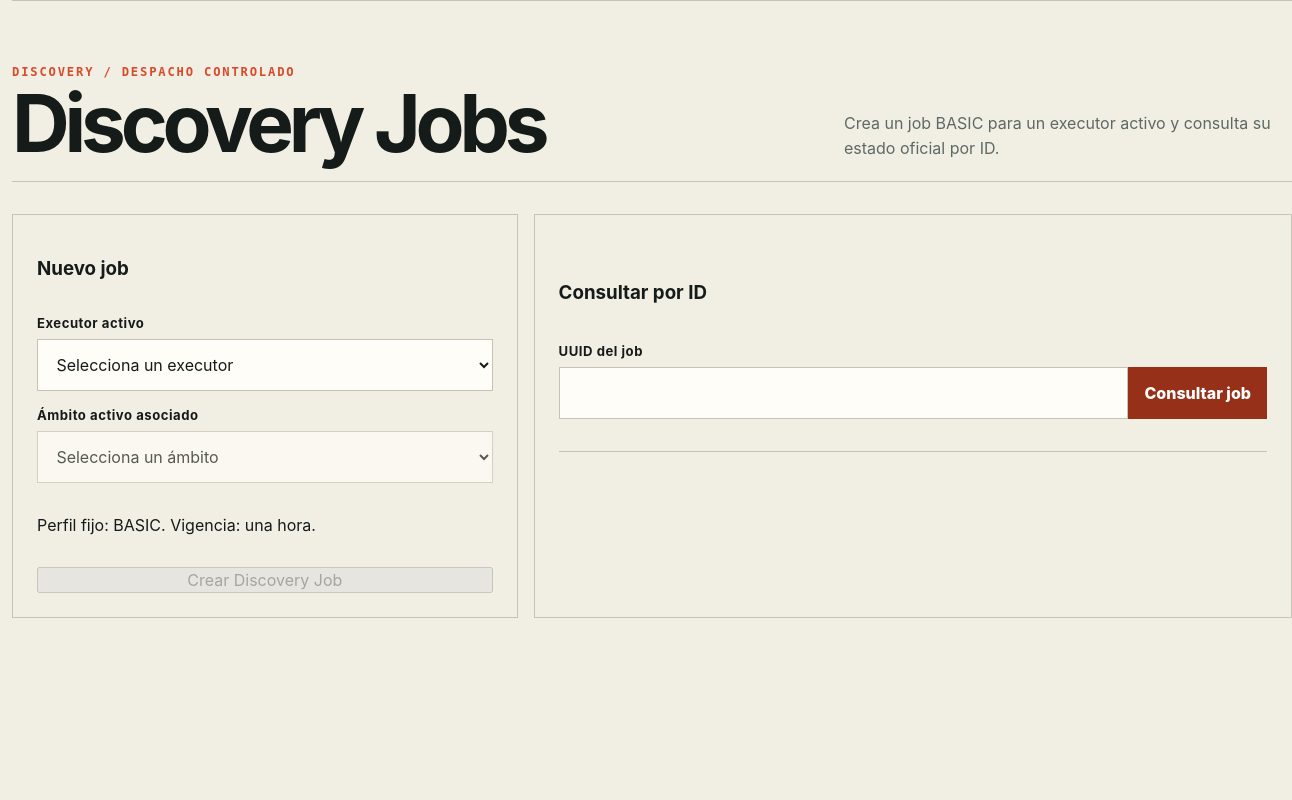
Test: DiscoveryJobWorkspace › does not retry an unavailable job publication
Select "Office executor" in the dropdown labelled "Executor activo" at (265, 365), box [37, 339, 493, 391]
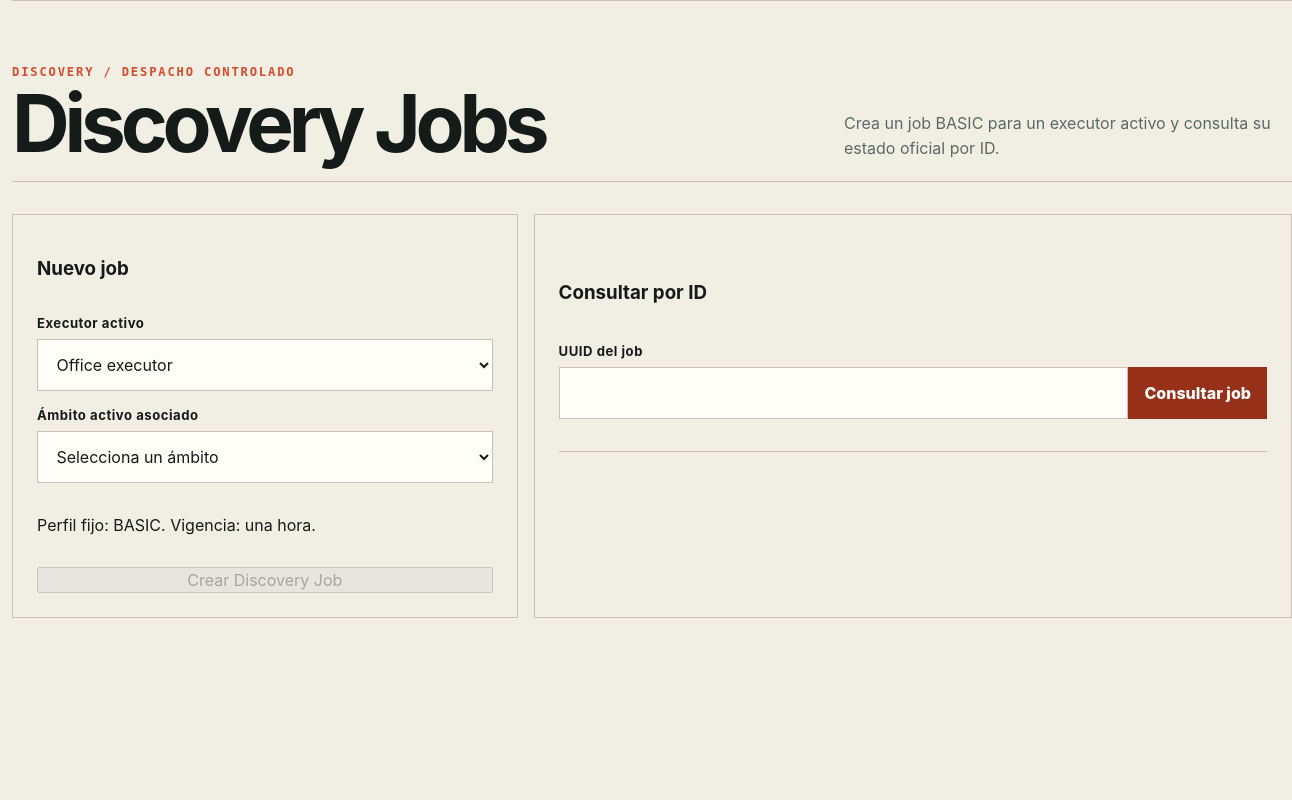
Select "Office network · 192.0.2.0/24" in the dropdown labelled "Ámbito activo asociado" at (265, 457), box [37, 431, 493, 483]
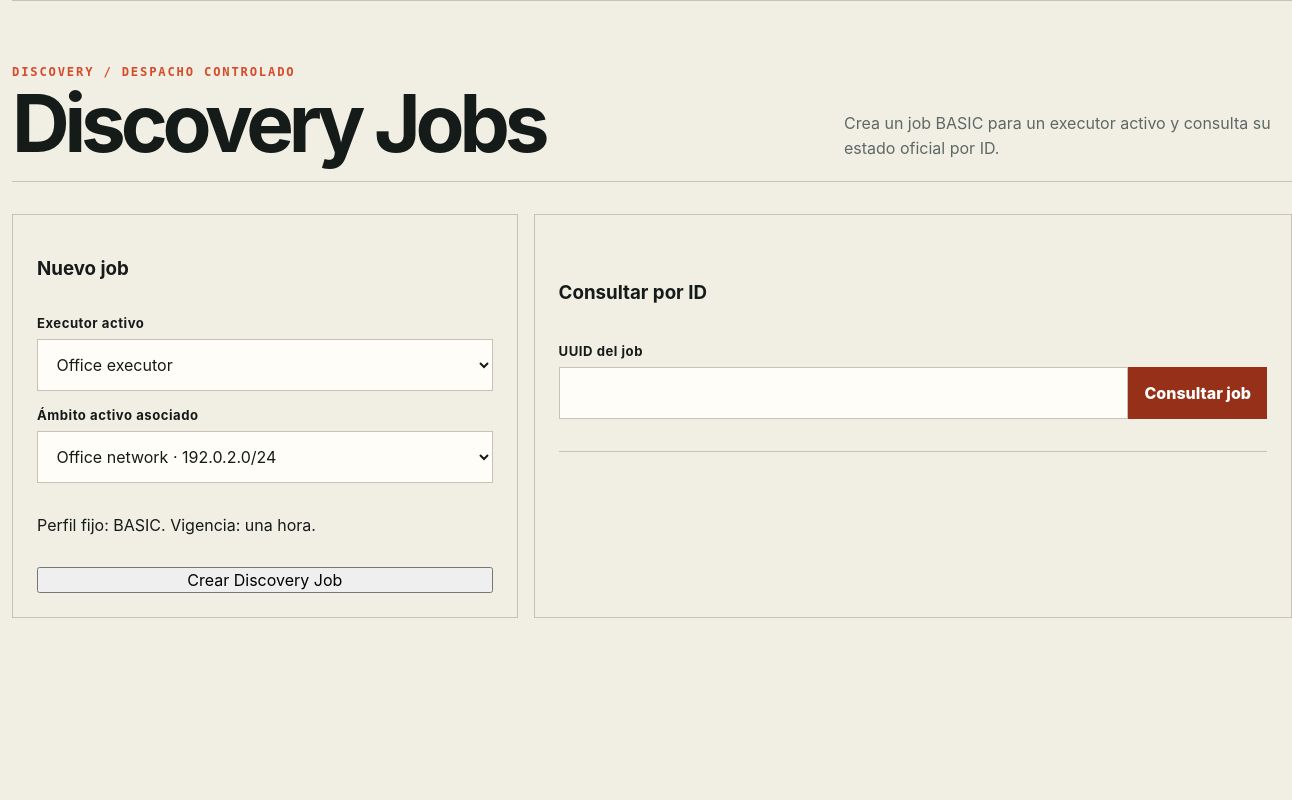
Click the button "Crear Discovery Job" at (265, 580), box [37, 567, 493, 593]
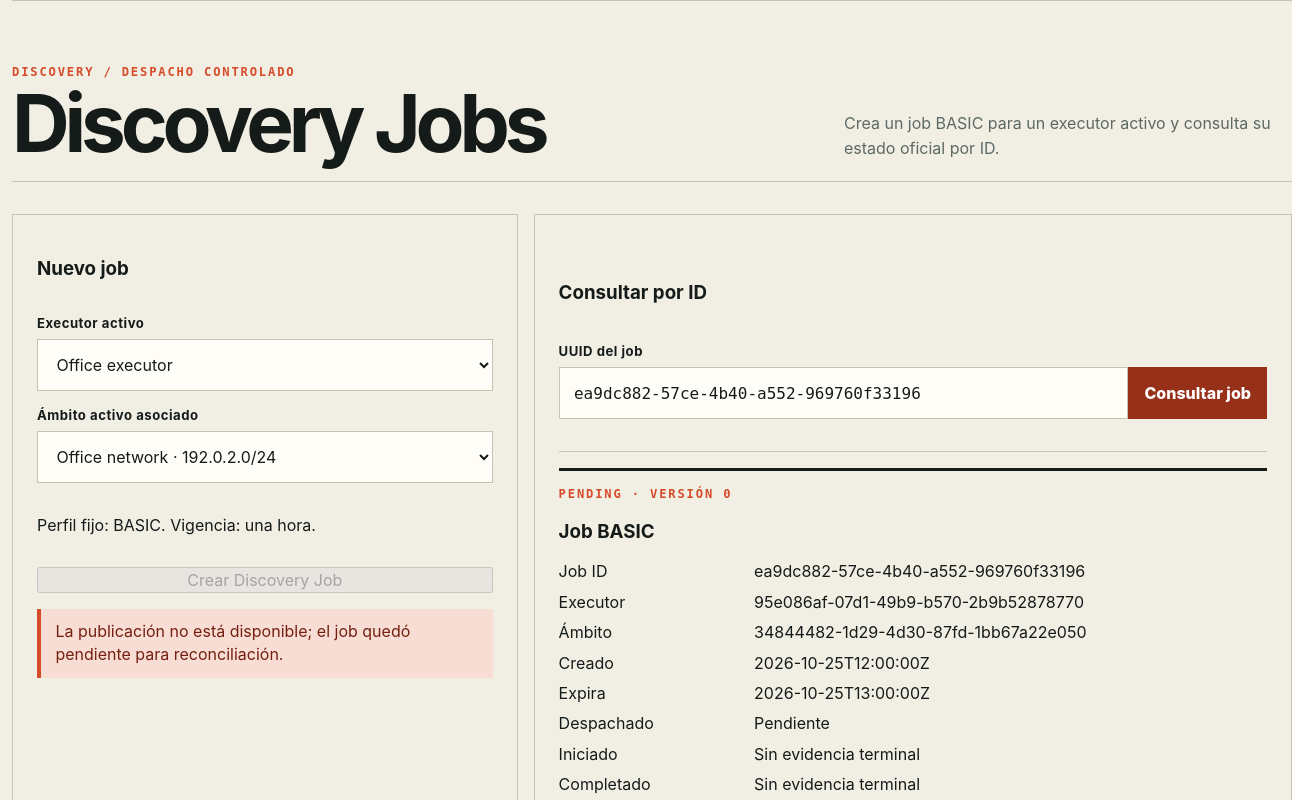
Now the message shows "quedó pendiente", box [55, 621, 410, 664]
Now the button "Crear Discovery Job" is disabled, box [37, 567, 493, 593]
